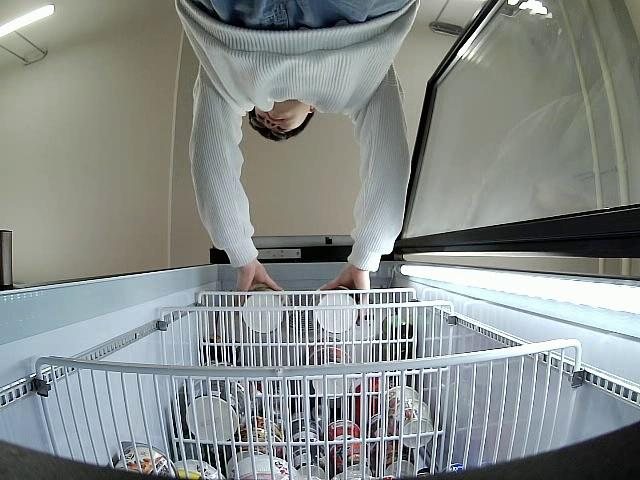00_hand: (321, 264, 370, 326), (235, 264, 283, 305)
03_chapagetti_L: (310, 285, 358, 336), (241, 285, 289, 333)
